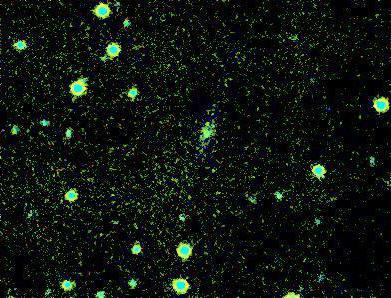star: (196, 107, 226, 137)
